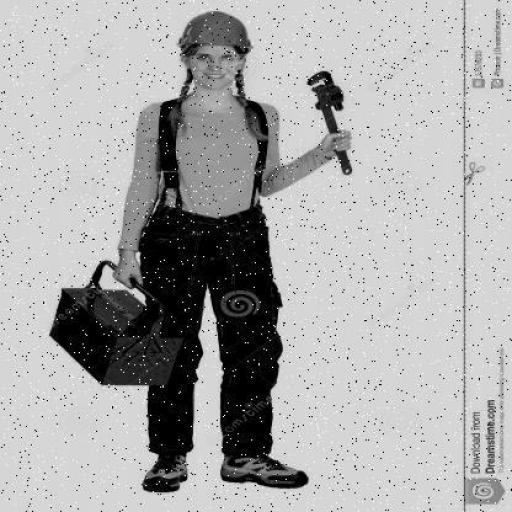person: (91, 13, 357, 498)
safety_shoe: (227, 454, 308, 492), (144, 452, 192, 494)
